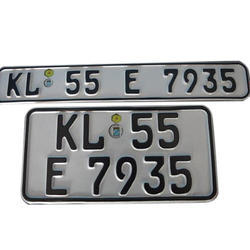number_plate: (22, 106, 219, 203), (1, 63, 250, 102)
